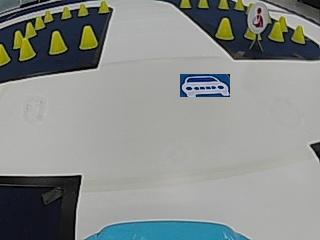cone: (48, 28, 68, 54), (215, 17, 235, 42), (81, 27, 98, 53), (18, 36, 35, 61), (269, 22, 284, 42), (0, 38, 10, 66), (294, 24, 305, 44), (97, 1, 112, 14), (42, 9, 54, 24), (60, 5, 72, 19), (78, 2, 88, 17), (27, 23, 36, 38), (196, 0, 212, 8), (178, 0, 192, 9), (219, 1, 230, 11)
patient: (249, 4, 268, 32)
